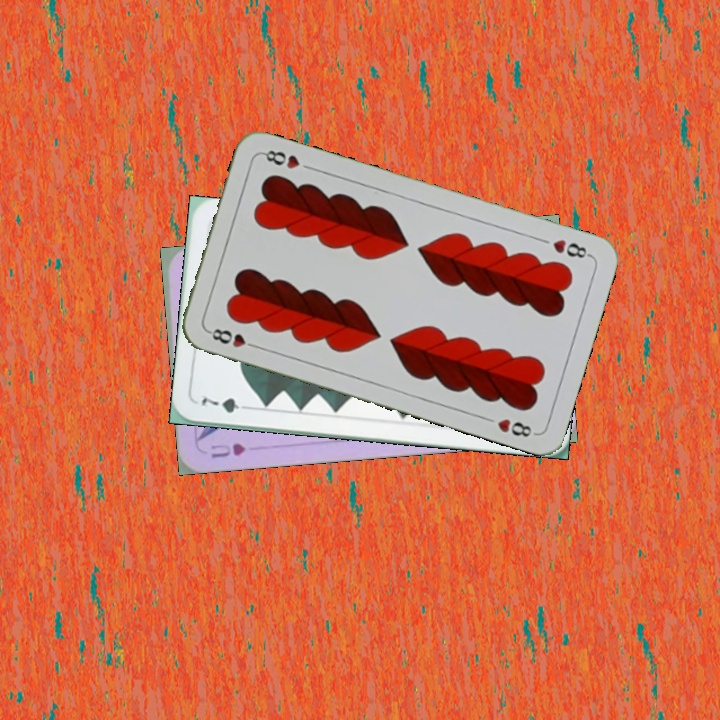G7: (196, 390, 255, 416)
H8: (204, 324, 262, 351), (548, 235, 594, 261)
HU: (206, 439, 248, 461)
